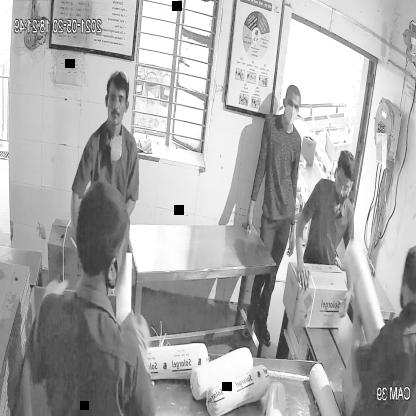goggles: (332, 173, 359, 197)
no_goggles: (103, 87, 134, 109)
